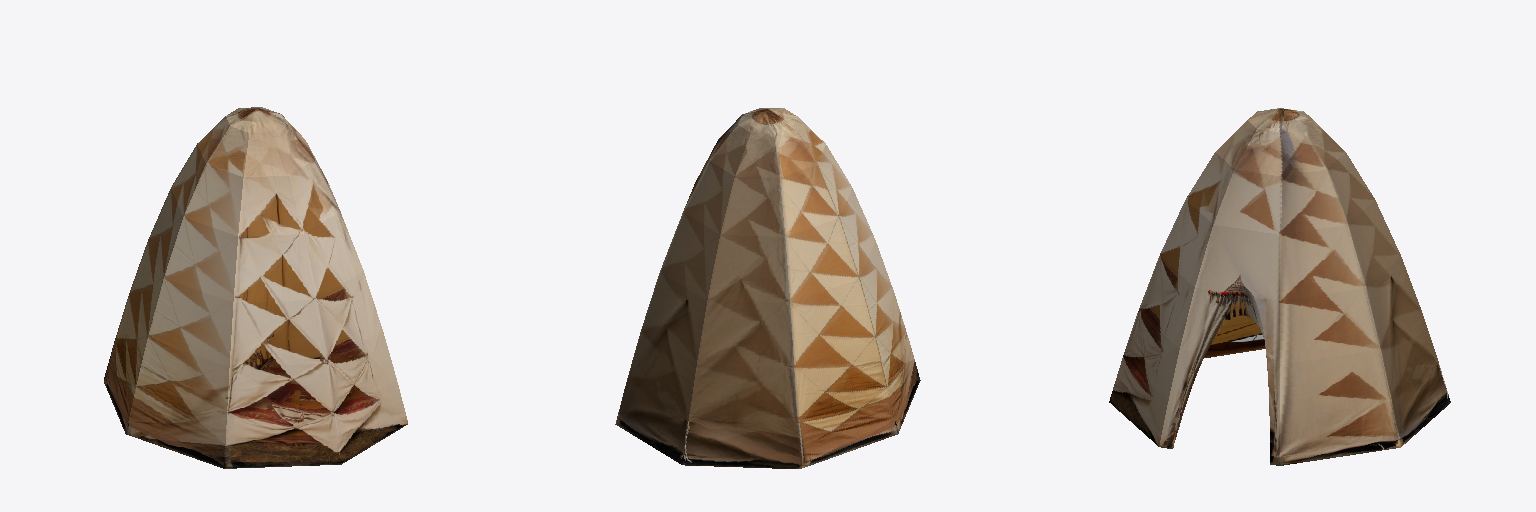
The picture shows the model from 3 angles: view 1: azimuth 30°, elevation 25°; view 2: azimuth 150°, elevation 25°; view 3: azimuth 270°, elevation 25°; orthographic projection.
Parts seen in each view (by area): view 1: model; view 2: model; view 3: model.
Part boxes in pixels (left/top/right/bottom): model: left=104, top=107, right=407, bottom=468; model: left=615, top=108, right=920, bottom=468; model: left=1109, top=108, right=1450, bottom=465.
Bounding box in the file's own units: 1.76 × 1.9 × 2.
Materials: 1 (1 with a texture image).